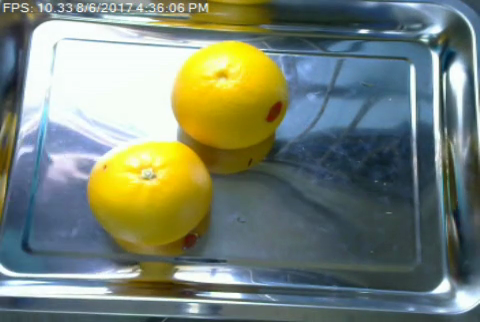Orange: (87, 136, 214, 246), (171, 39, 288, 149)
